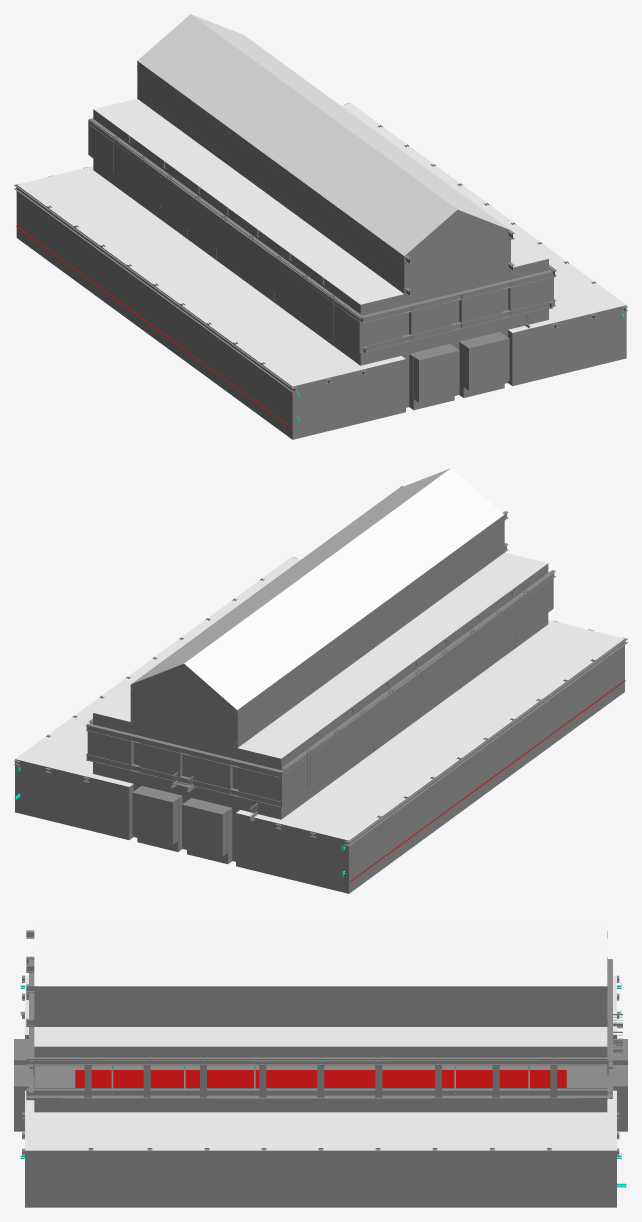
The model's file is Hangar.FBX.
The picture shows the model from 3 angles, top to bottom: view 1: azimuth 30°, elevation 25°; view 2: azimuth 150°, elevation 25°; view 3: azimuth 270°, elevation 25°; orthographic projection. The views are drawn at different scales.
Visible parts, largest first — view 1: Object030, Object028, Box001, Object050, Object049, Object026, Object027; view 2: Object030, Object028, Box001, Object047, Object048, Object025, Object024; view 3: Object030, Object028, Box001, Object029, Object048, Object050, Object025, Box086.
Boxes of the visible parts, x1,y1,x2,y2 form: Object030: (16,103,626,439); Object028: (94,14,548,304); Box001: (14,60,627,392); Object050: (462,334,509,390); Object049: (413,346,459,402); Object026: (361,270,555,324); Object027: (360,299,555,353); Object030: (15,557,624,893); Object028: (93,468,547,758); Box001: (14,486,627,846); Object047: (182,800,228,856); Object048: (132,788,178,844); Object025: (86,723,282,778); Object024: (86,753,280,807); Object030: (25,959,616,1207); Object028: (34,922,607,1046); Box001: (22,930,619,1155); Object029: (34,1065,607,1087); Object048: (613,1065,627,1131); Object050: (14,1065,28,1131); Object025: (608,959,612,1067); Box086: (26,1088,607,1100).
Bounding box in the file's own units: 43.79 × 64.67 × 23.16.
